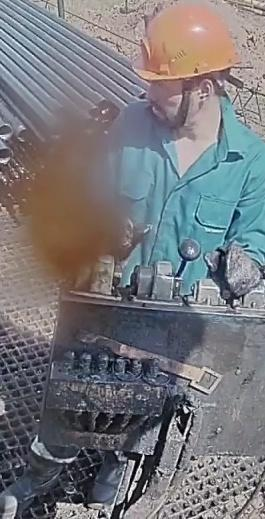gloves: (203, 240, 262, 300)
helmet: (133, 1, 239, 97)
vest: (106, 92, 264, 296)
